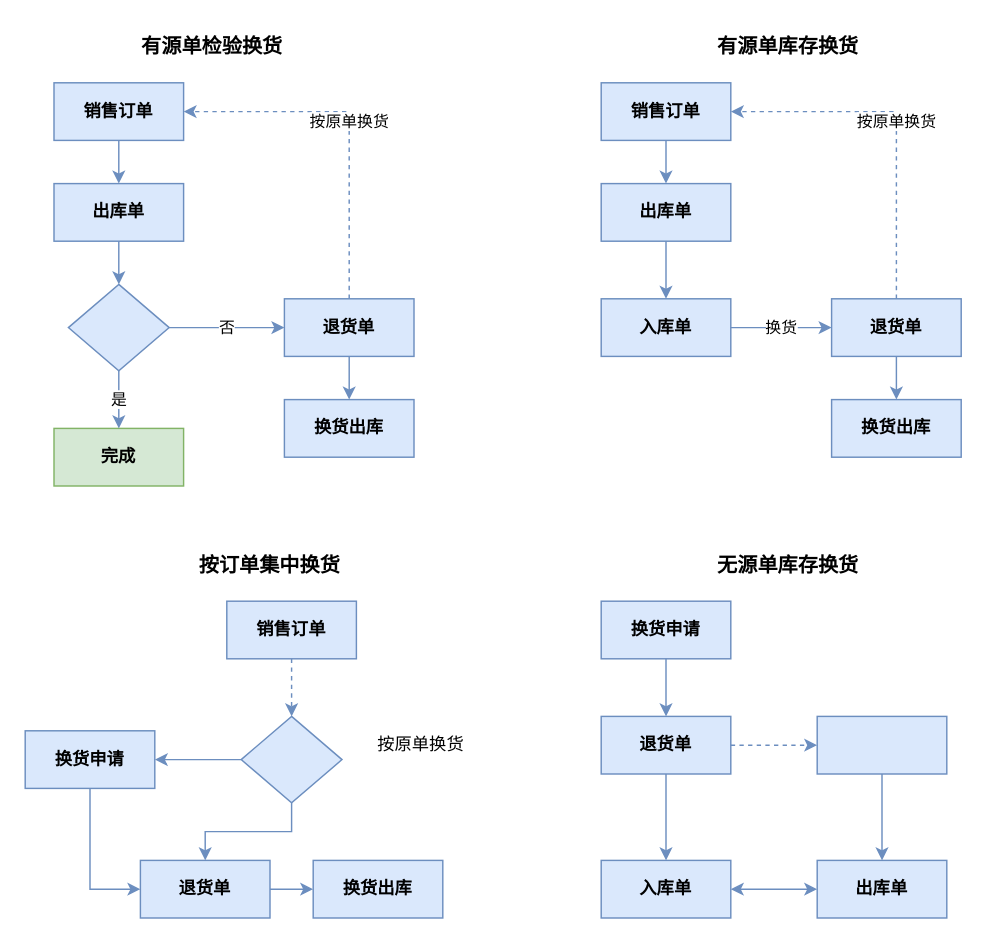
Image size: 986x943. Some labels were removed from this diagram. The shapes that lost their labels are listed below. From the top down, each one's box as (x1, y1, x2, y2) in pixels, then its label:
(67, 283, 169, 371): 客户 验收?
(240, 715, 342, 803): 存在 退货
(816, 715, 947, 774): 销售订单 （换货）
